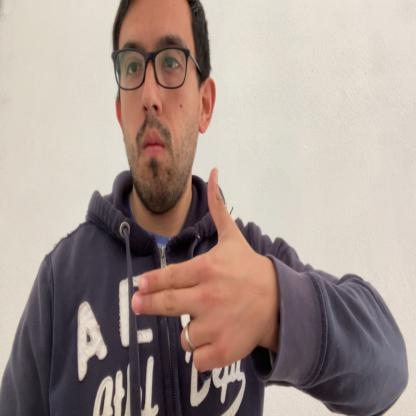H: (131, 165, 259, 372)
